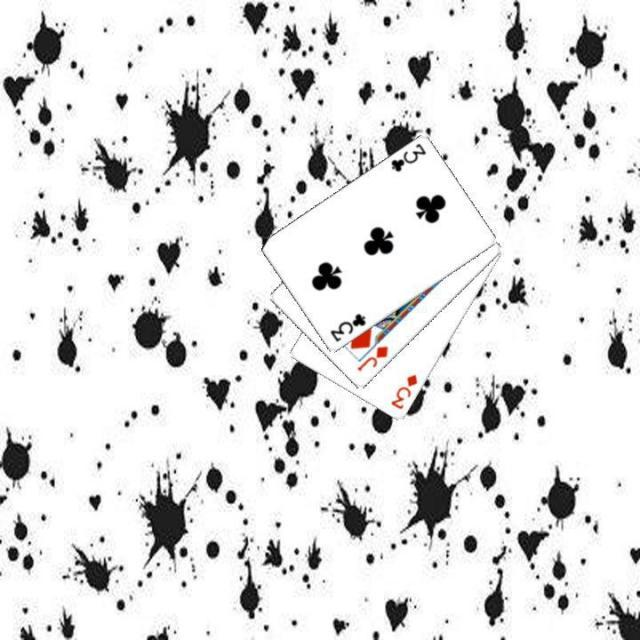3C: (326, 309, 367, 344), (387, 140, 428, 174)
3D: (386, 371, 419, 412)
JD: (352, 342, 390, 373)
